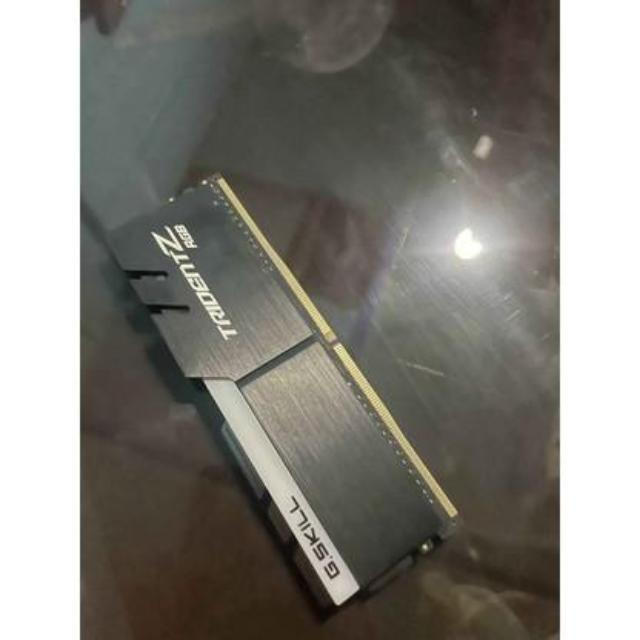RAM: (101, 170, 462, 616)
